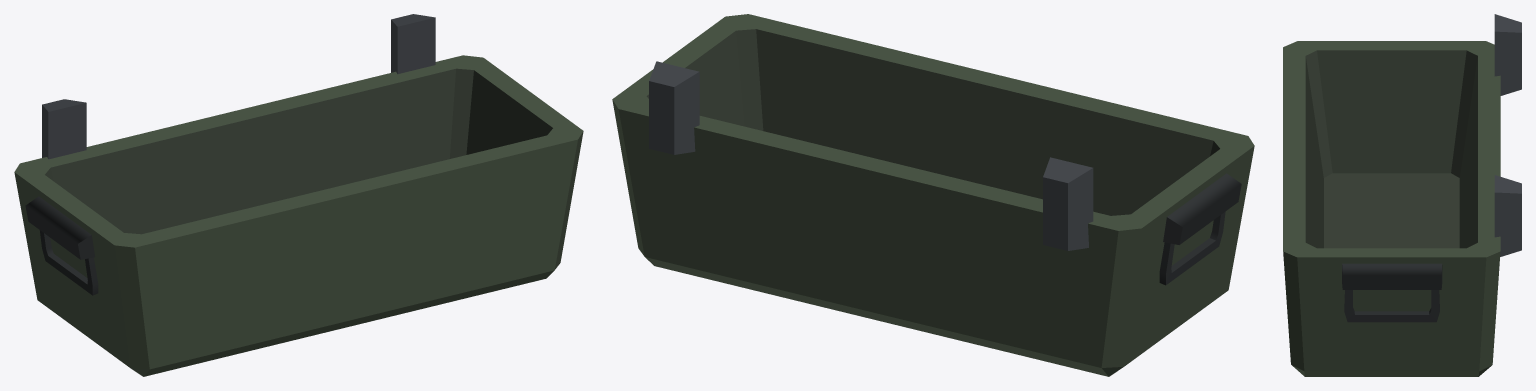
Rendered from SM_Prop_Crate_Tuckbox_01.glb.
3 renders of one model, left to right at view 1: azimuth 30°, elevation 25°; view 2: azimuth 150°, elevation 25°; view 3: azimuth 270°, elevation 25°, orthographic. The views are drawn at different scales.
Visible parts, largest first — view 1: SM_Prop_Crate_Tuckbox_01; view 2: SM_Prop_Crate_Tuckbox_01; view 3: SM_Prop_Crate_Tuckbox_01.
Part boxes in pixels (x1,y1,x2,y2): SM_Prop_Crate_Tuckbox_01: (14,14,583,376); SM_Prop_Crate_Tuckbox_01: (612,14,1254,376); SM_Prop_Crate_Tuckbox_01: (1283,14,1521,376).
Bounding box in the file's own units: 0.9533 × 0.3506 × 0.422.
Materials: 1 (1 with a texture image).
